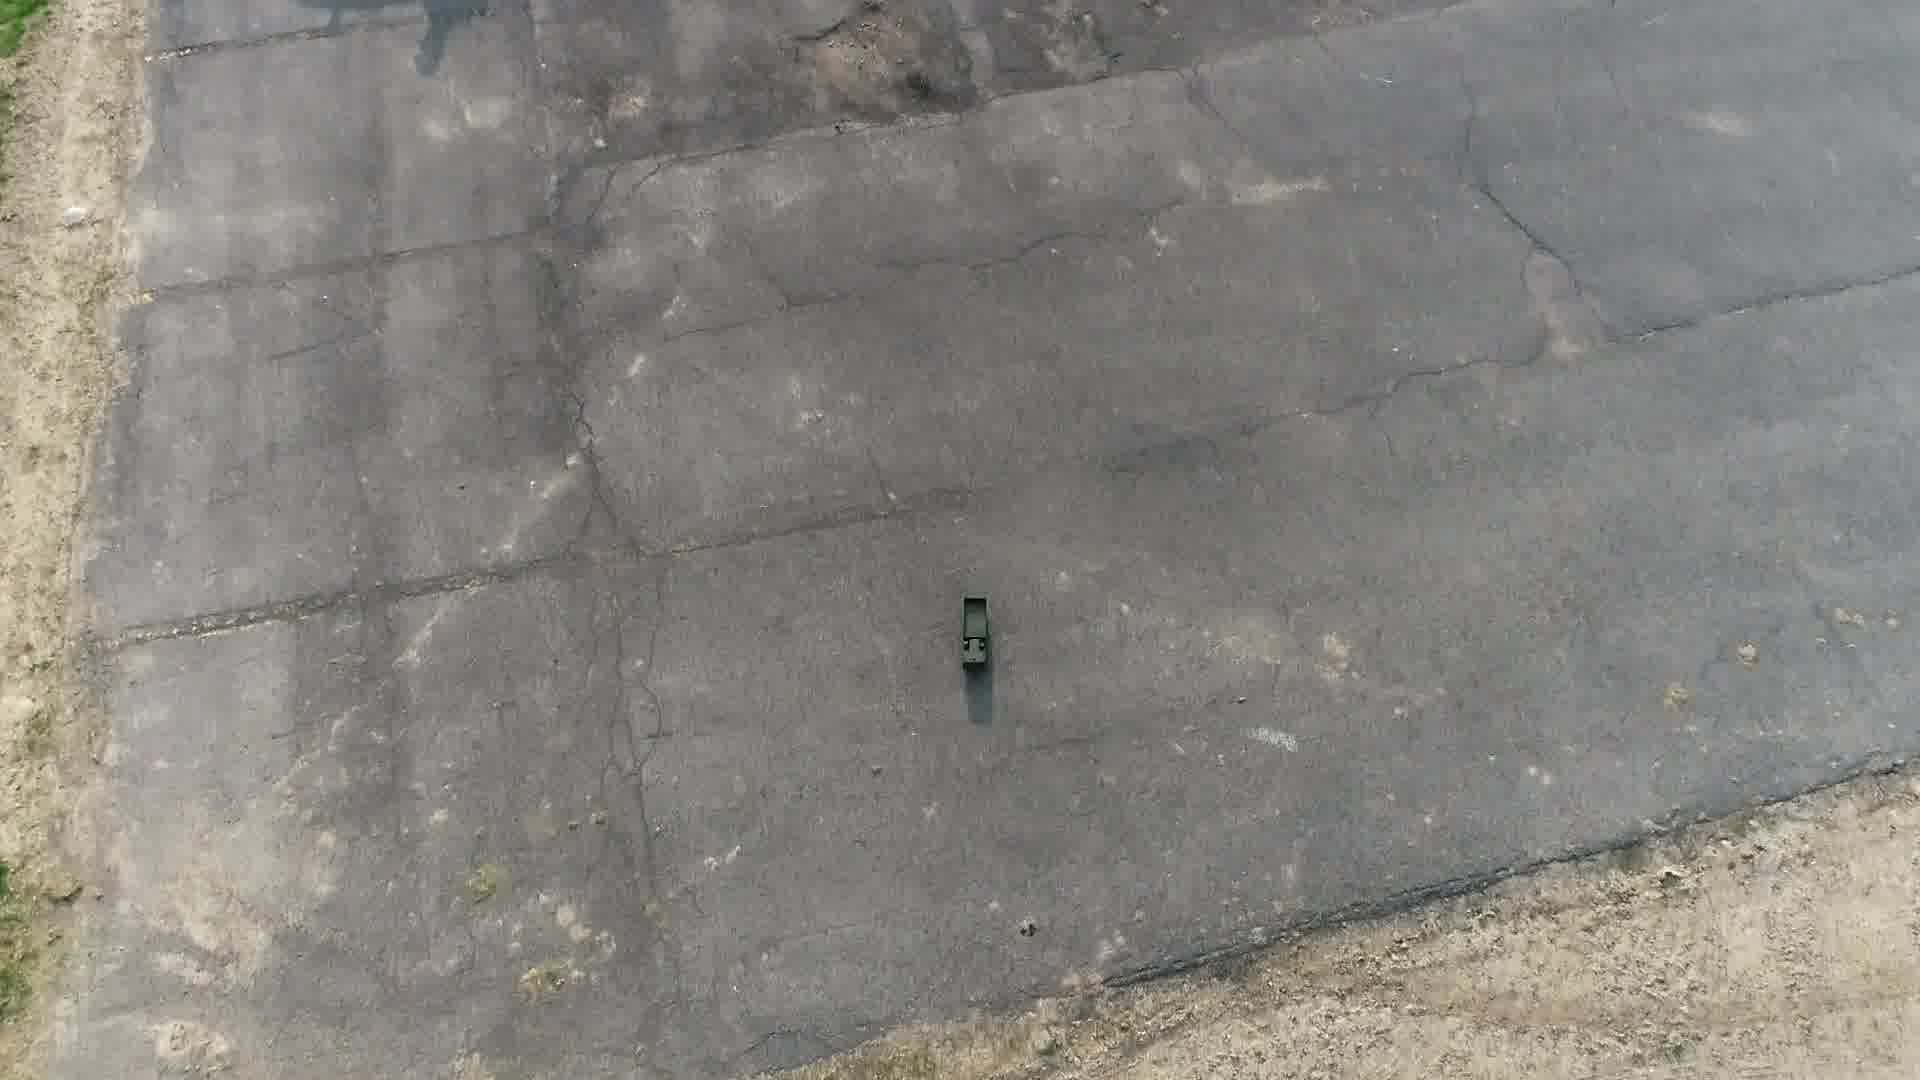transporter9: (953, 593, 997, 678)
